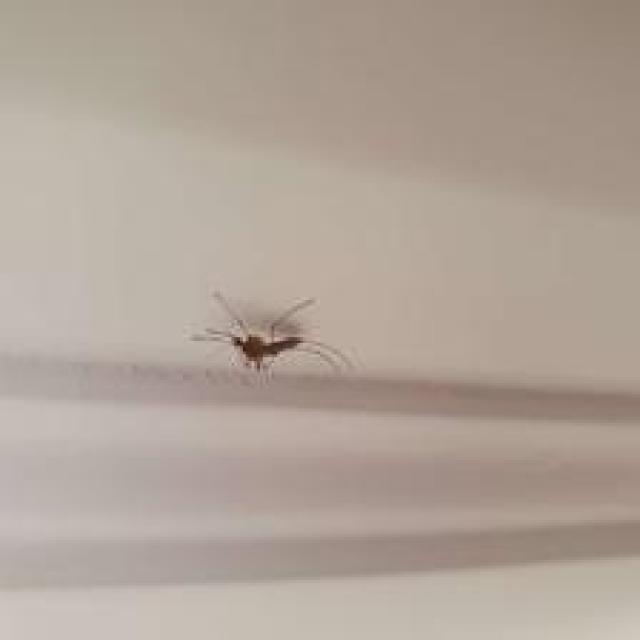Culex: (190, 289, 353, 377)
